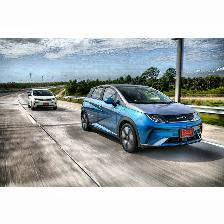EV: (81, 83, 204, 154)
